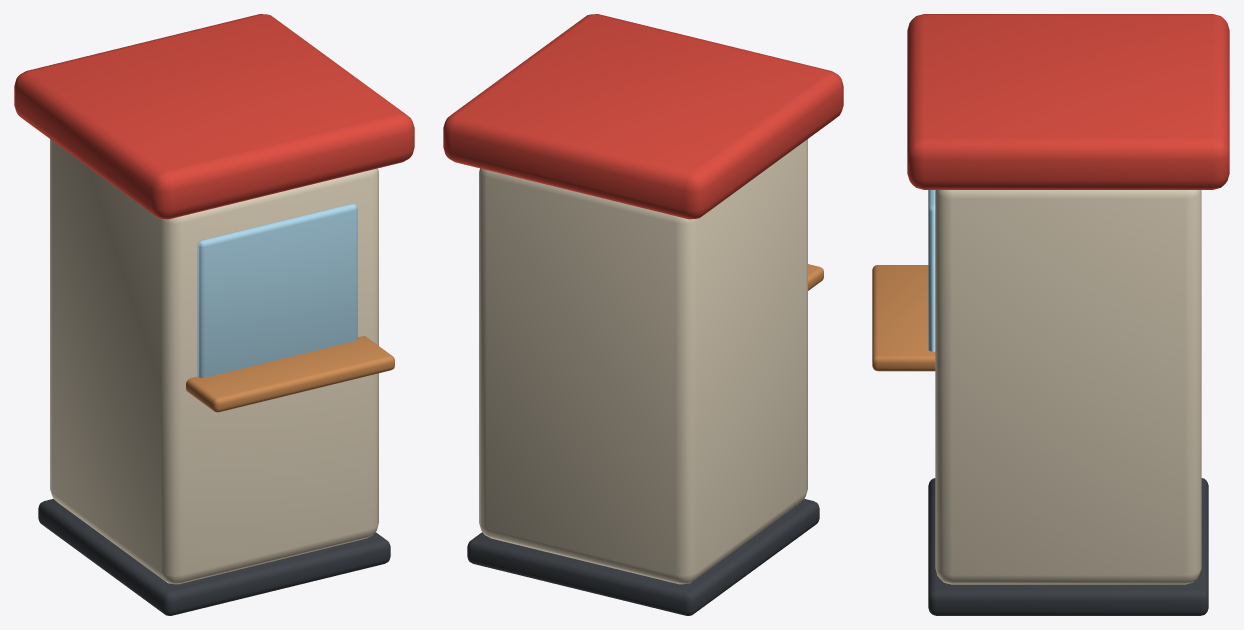
File: prop_kiosk.glb
3 renders of one model, left to right at view 1: azimuth 30°, elevation 25°; view 2: azimuth 150°, elevation 25°; view 3: azimuth 270°, elevation 25°, orthographic. The views are drawn at different scales.
Visible parts, largest first — view 1: kiosk; view 2: kiosk; view 3: kiosk.
Part boxes in pixels (left/top/right/bottom): kiosk: left=14, top=14, right=414, bottom=615; kiosk: left=443, top=14, right=843, bottom=615; kiosk: left=872, top=14, right=1229, bottom=615.
Bounding box in the file's own units: 1.15 × 1.9 × 1.28.
4 materials, 4 textured.
